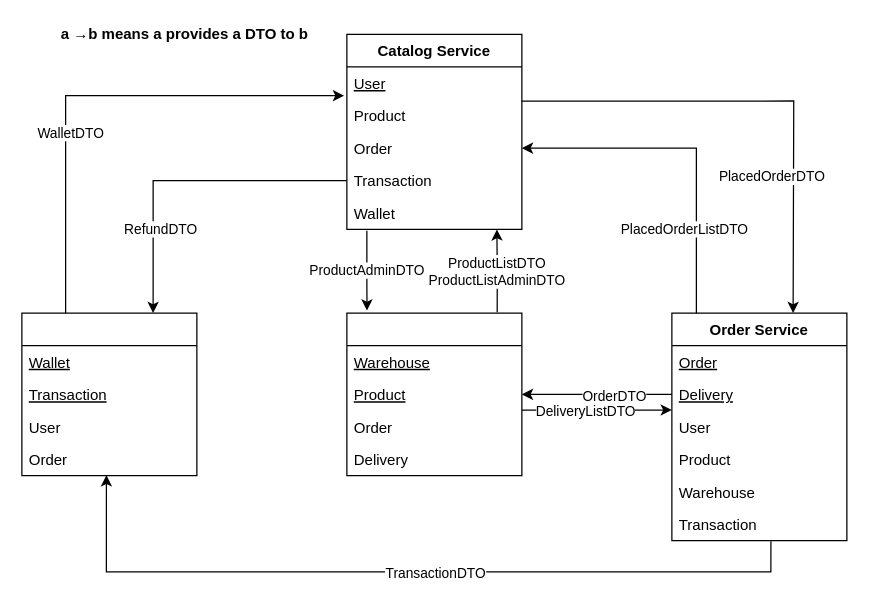
Some shapes in this 869 by 604 pixel diagram are drawn without their labels. The shapes that lost their labels are listed below. From the top down, each one's box as (x1, y1, x2, y2) in pixels, then its label:
(21, 312, 197, 476): Wallet Service
(346, 312, 522, 476): Warehouse Service
